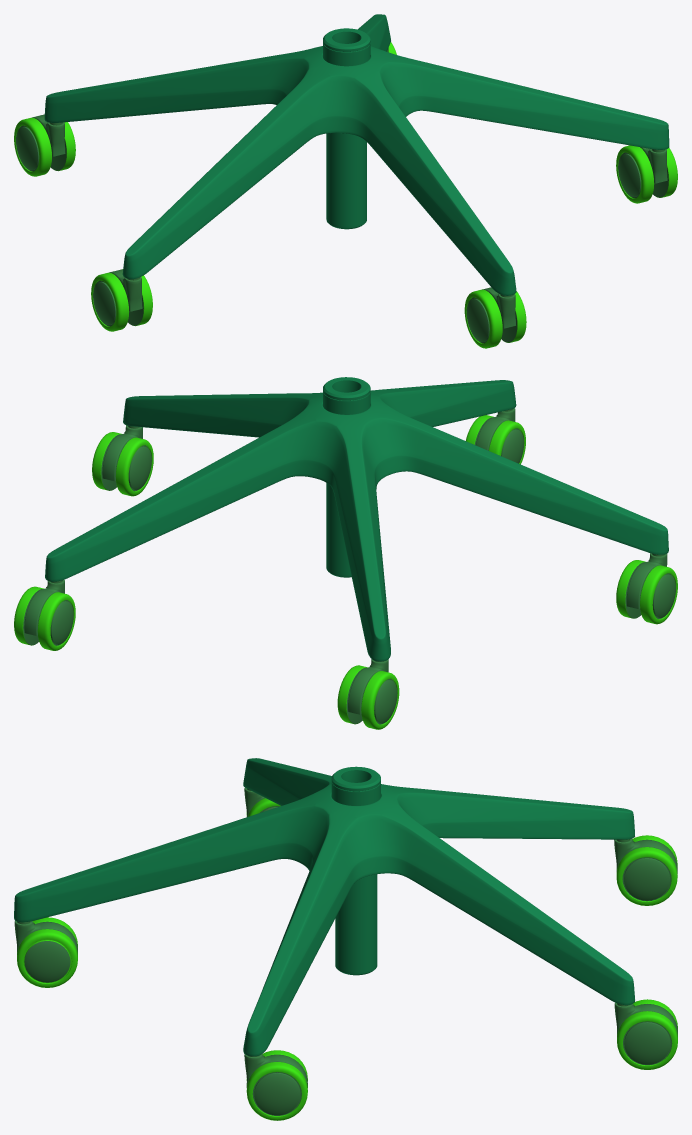
The model's file is SM_Schreibtischstuhl_Unten.fbx.
The picture shows the model from 3 angles, top to bottom: view 1: azimuth 30°, elevation 25°; view 2: azimuth 150°, elevation 25°; view 3: azimuth 270°, elevation 25°; orthographic projection. The views are drawn at different scales.
Parts seen in each view (by area): view 1: SM_Schreibtischstuhl_Unten; view 2: SM_Schreibtischstuhl_Unten; view 3: SM_Schreibtischstuhl_Unten.
Part boxes in pixels (x1,y1,x2,y2): SM_Schreibtischstuhl_Unten: [14, 14, 677, 348]; SM_Schreibtischstuhl_Unten: [14, 377, 677, 729]; SM_Schreibtischstuhl_Unten: [14, 758, 677, 1120].
Size of the model in its own units: 70.79 by 23.41 by 69.1.
